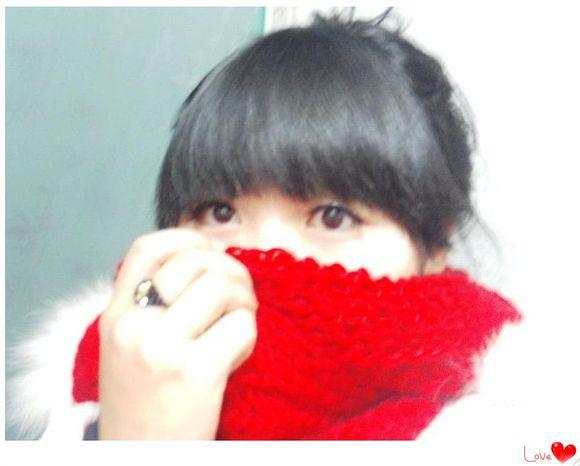OK: (178, 176, 388, 386)
